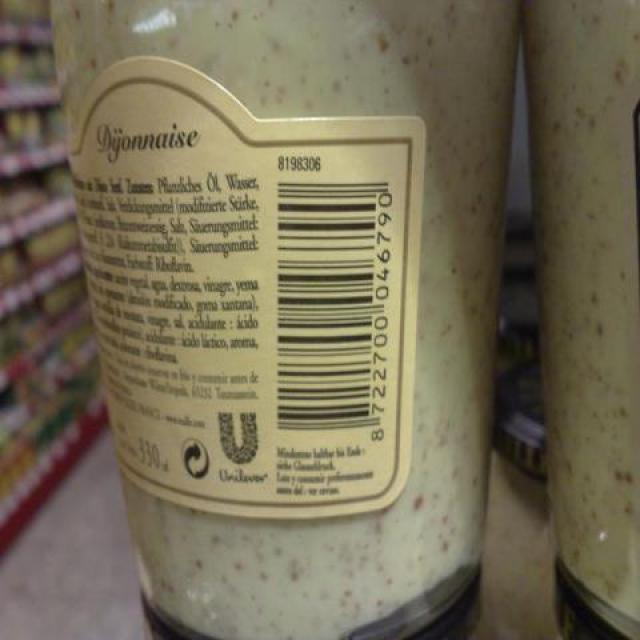Barcode: (270, 173, 399, 448)
